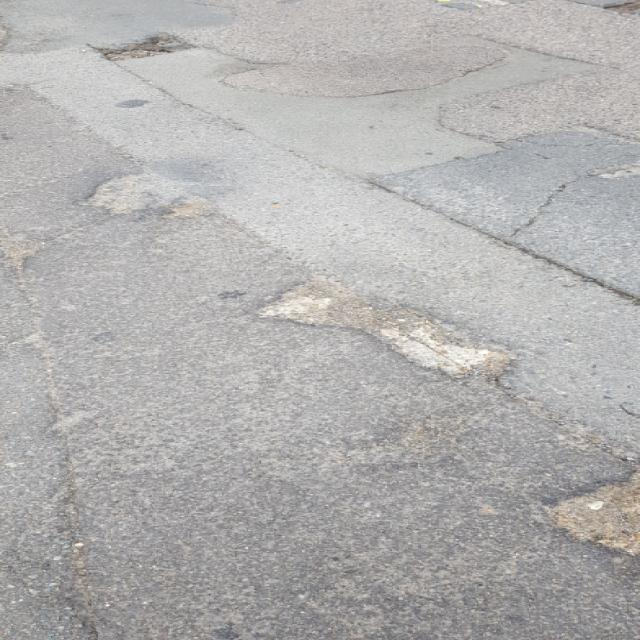pothole: (245, 268, 534, 382), (539, 468, 640, 560), (75, 164, 224, 224), (90, 30, 201, 64)
